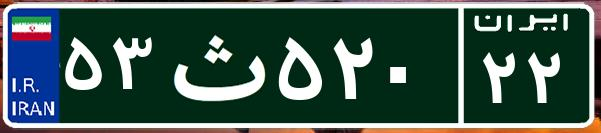0: (385, 28, 445, 110)
2: (330, 28, 385, 110), (475, 38, 525, 113), (525, 38, 570, 115)
3: (110, 28, 158, 105)
5: (273, 28, 330, 110), (57, 26, 110, 107)
ث: (158, 15, 273, 115)
